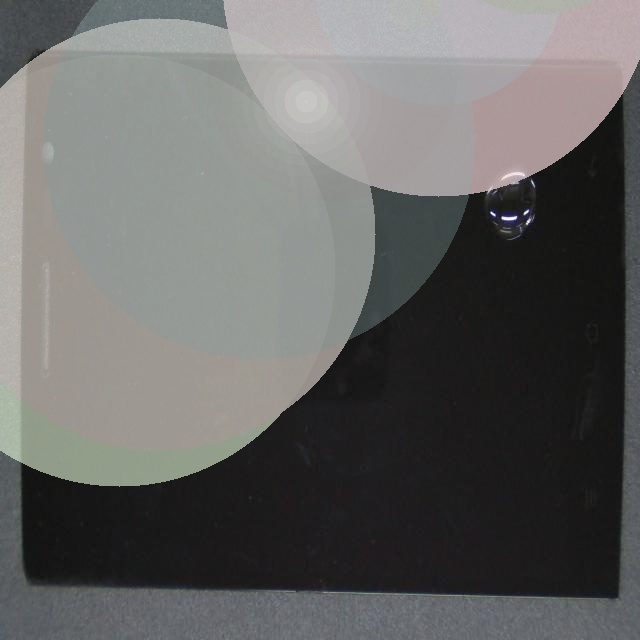oil: (267, 65, 640, 263)
